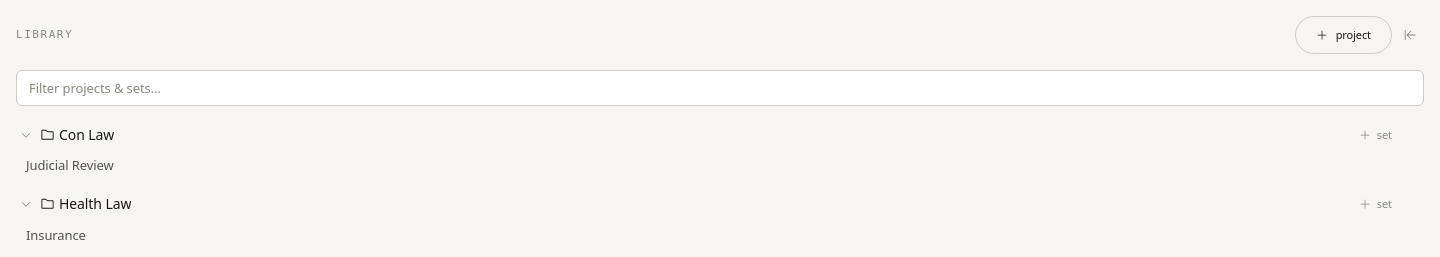
Test: filters projects and sets by a live search query
The width and height of the screenshot is (1440, 257).
Type "hea" into the field with placeholder "Filter projects & sets…".
click(720, 88); type("hea")  # box [16,70,1424,106]
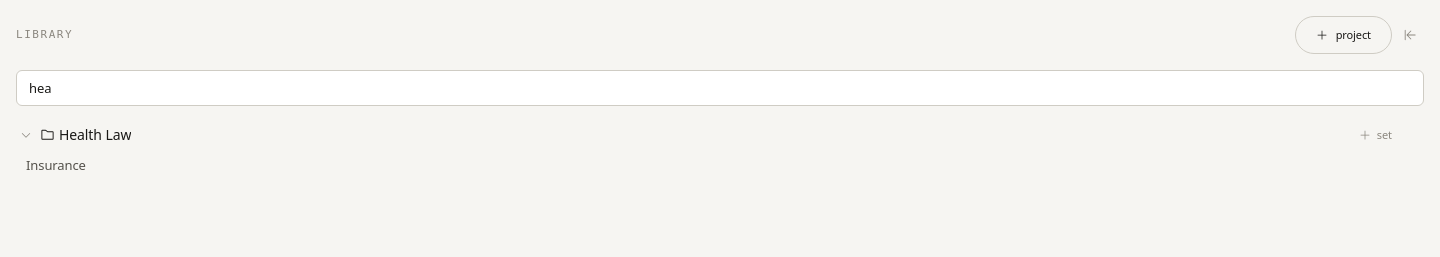
Expected: the text "Health Law" is shown, [59,125,131,145]
Result: the text "Con Law" is gone
